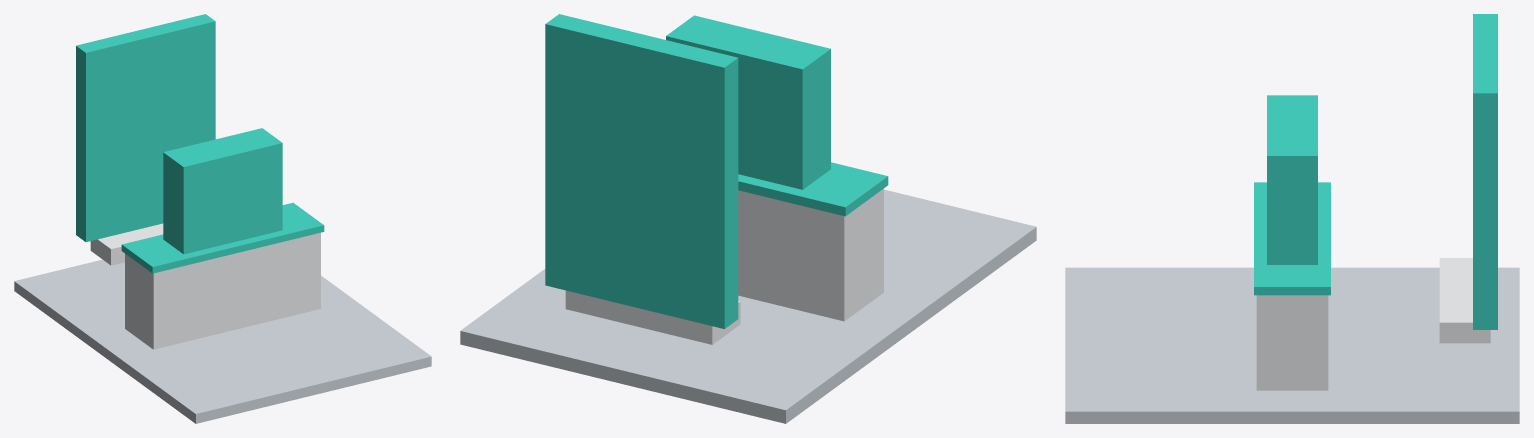
The picture shows the model from 3 angles, left to right: view 1: azimuth 30°, elevation 25°; view 2: azimuth 150°, elevation 25°; view 3: azimuth 270°, elevation 25°; orthographic projection. The views are drawn at different scales.
Visible parts, largest first — view 1: Exhibition Booth Concept; view 2: Exhibition Booth Concept; view 3: Exhibition Booth Concept.
Part boxes in pixels (left/top/right/bottom): Exhibition Booth Concept: left=14, top=14, right=431, bottom=423; Exhibition Booth Concept: left=460, top=14, right=1036, bottom=423; Exhibition Booth Concept: left=1065, top=14, right=1519, bottom=423.
Bounding box in the file's own units: 3 × 2.9 × 4.
